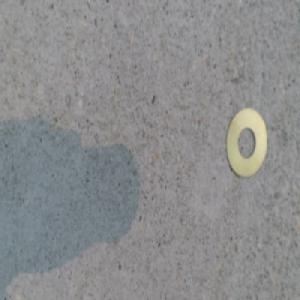Washer: (223, 107, 266, 181)
